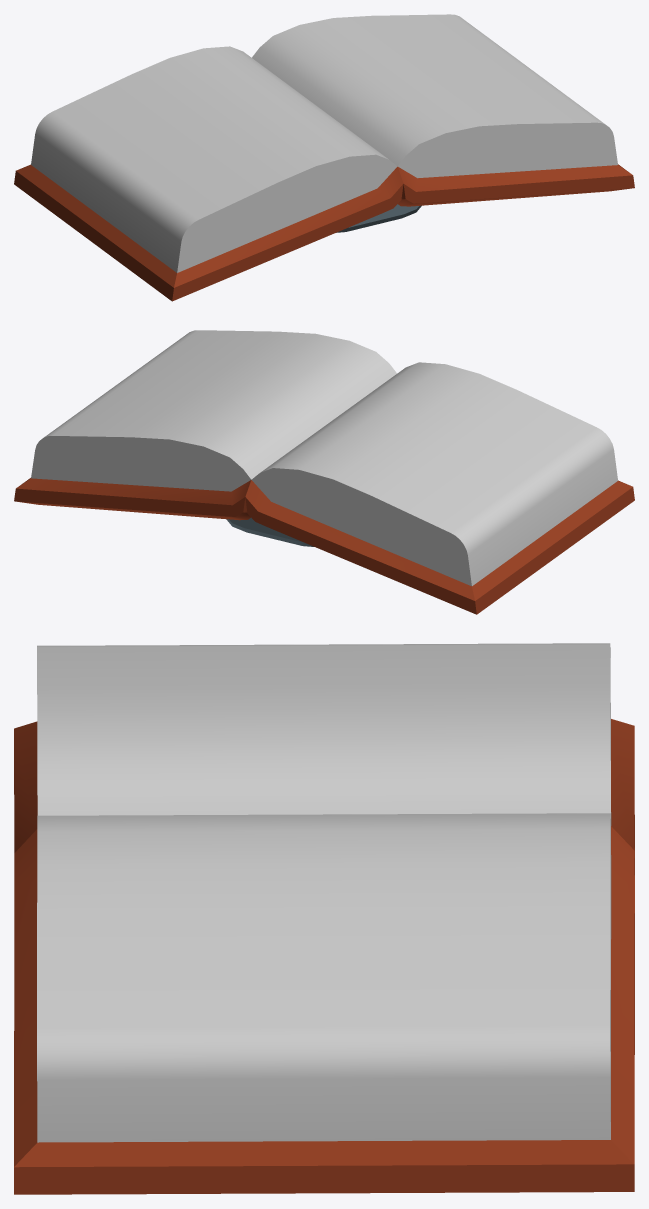
Rendered from bookOpenB.obj.
3 views of the same model, one above another, from view 1: azimuth 30°, elevation 25°; view 2: azimuth 150°, elevation 25°; view 3: azimuth 270°, elevation 25° (orthographic). The views are drawn at different scales.
Visible parts, largest first — view 1: bookOpenB_Cube.4090; view 2: bookOpenB_Cube.4090; view 3: bookOpenB_Cube.4090.
Boxes of the visible parts, <box> form: bookOpenB_Cube.4090: <box>14,14,634,301</box>; bookOpenB_Cube.4090: <box>14,330,634,614</box>; bookOpenB_Cube.4090: <box>14,643,634,1194</box>.
Size of the model in its own units: 0.7032 by 0.1569 by 0.4166.
